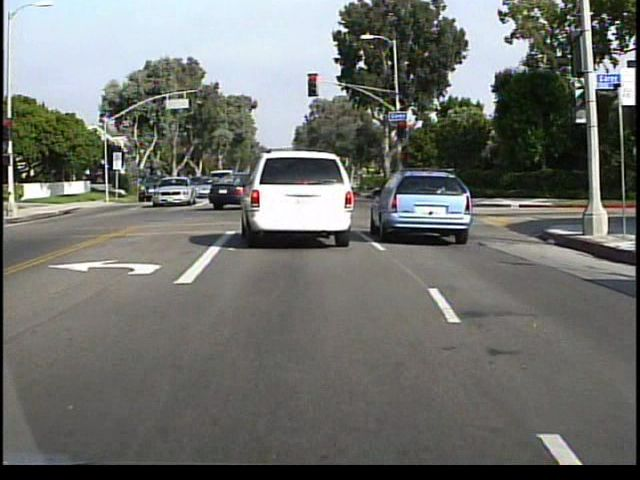car: (233, 161, 356, 247), (373, 164, 475, 246), (150, 169, 196, 208)
